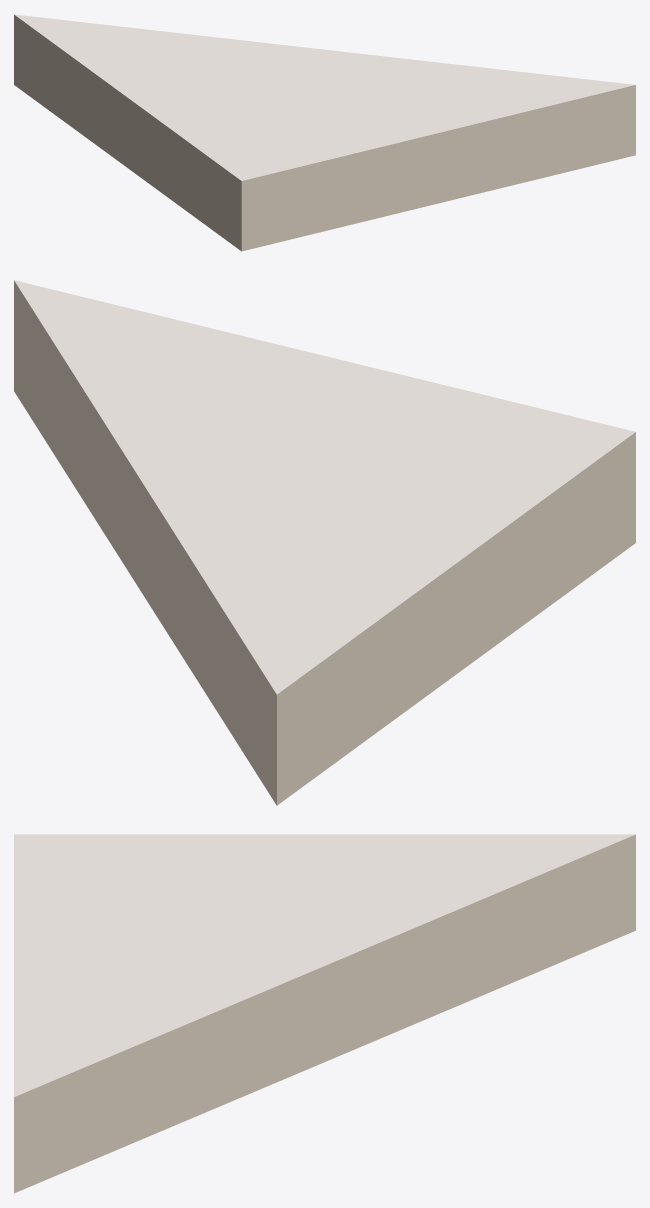
3 renders of one model, top to bottom at view 1: azimuth 30°, elevation 25°; view 2: azimuth 150°, elevation 25°; view 3: azimuth 270°, elevation 25°, orthographic. The views are drawn at different scales.
Parts seen in each view (by area): view 1: object1.002; view 2: object1.002; view 3: object1.002.
Part boxes in pixels (box(x1,y1,x2,y2)): object1.002: box(14, 14, 635, 251); object1.002: box(14, 280, 635, 805); object1.002: box(14, 834, 635, 1193).
Size of the model in its own units: 1.17 by 0.2 by 1.17.
